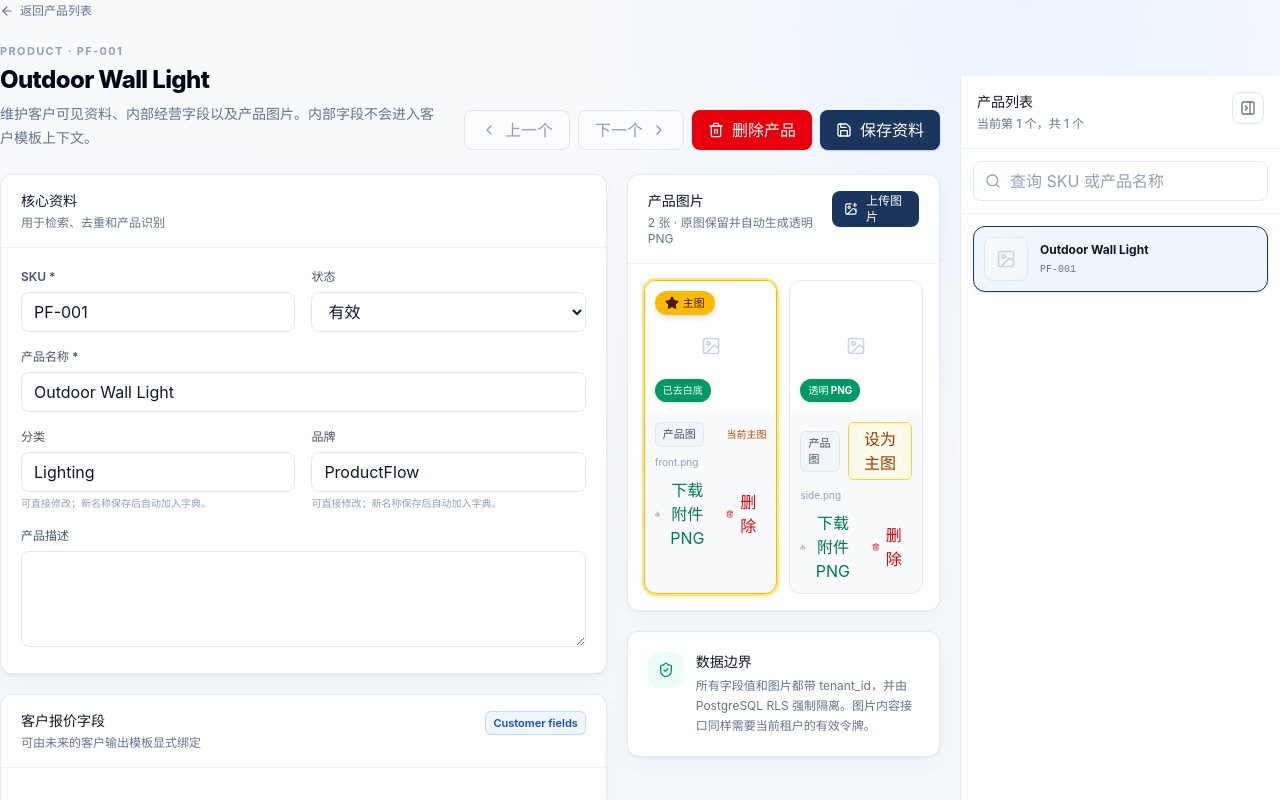
Test: ProductDetailPage › distinguishes the primary image and confirms before deleting an image
Expected: the text "当前主图" is shown, [726, 427, 766, 442]
Expected: the text "产品图" is shown 2 times, [655, 422, 704, 447]; [800, 431, 840, 472]
Click the button with aria-label "删除图片 front.png": (742, 514) [718, 486, 766, 542]
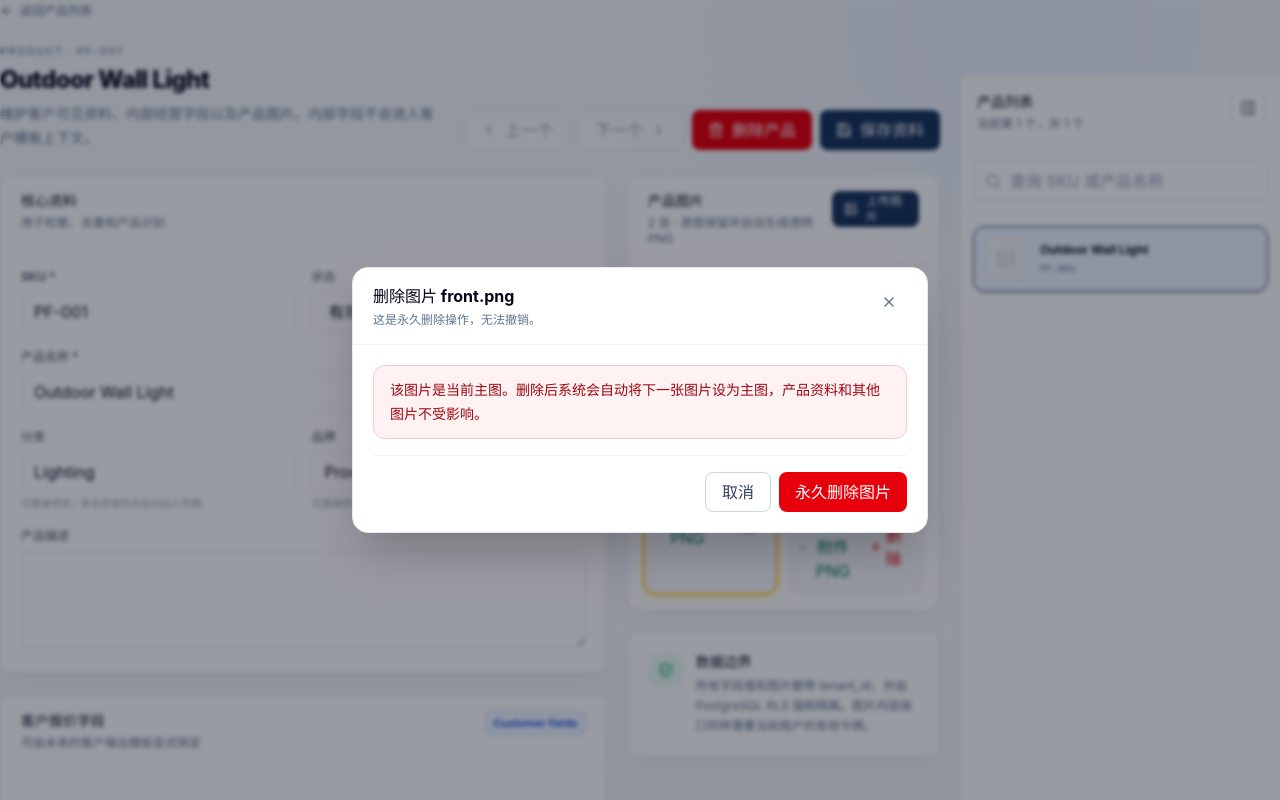
Expected: the dialog "删除图片 front.png" is shown, [352, 267, 928, 533]
Expected: the text "该图片是当前主图。删除后系统会自动将下一张图片设为主图，产品资料和其他图片不受影响。" is shown, [373, 365, 907, 439]
Click the button "永久删除图片": (843, 492) [779, 472, 907, 512]
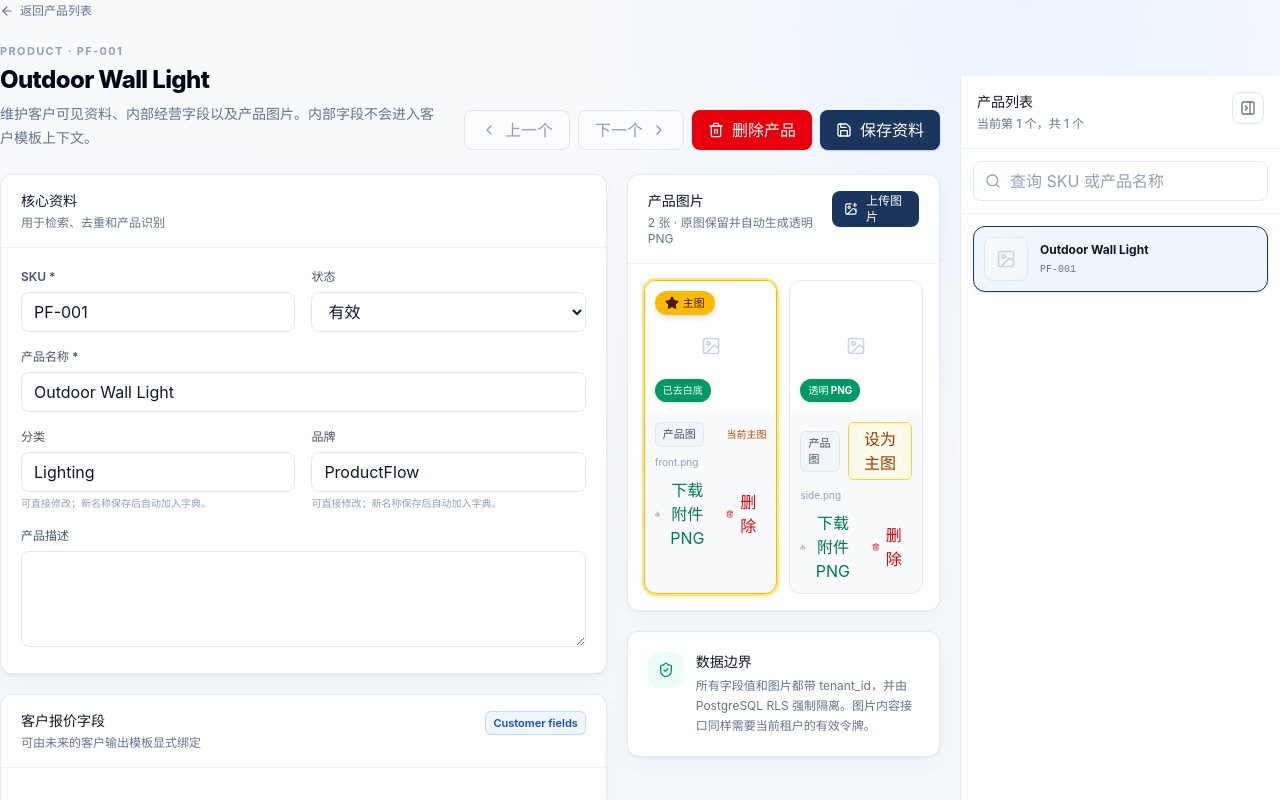
Expected: the heading "删除图片 front.png" is gone
